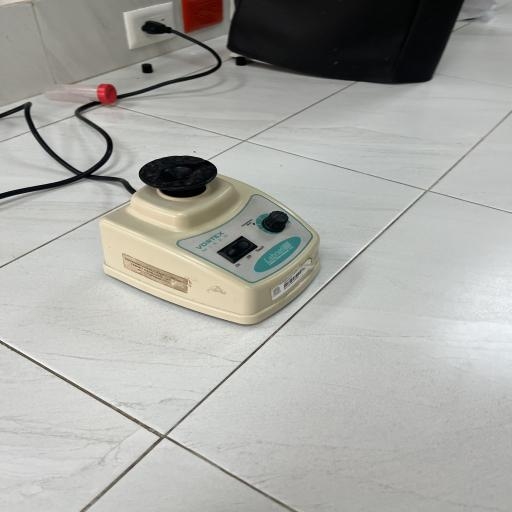Vortex_Mixer_LabNet: (88, 146, 338, 332)
